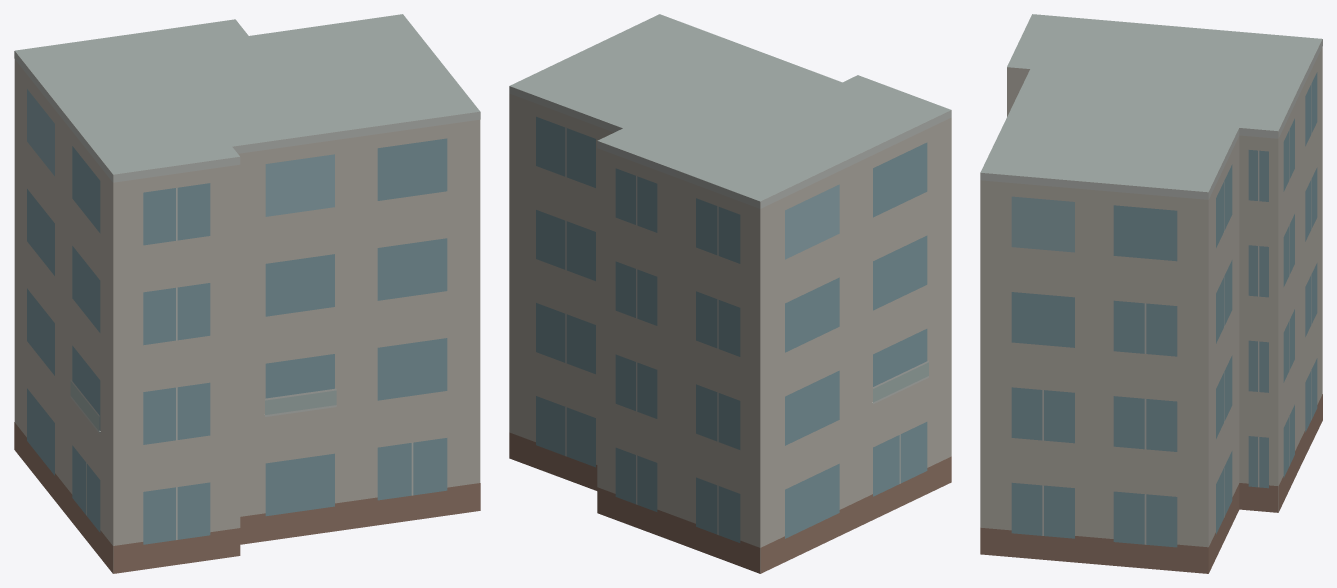
Rendered from residential-8696be92-3b79-4433-add8-eb87050bedae.glb.
3 views of the same model, side by side, from view 1: azimuth 30°, elevation 25°; view 2: azimuth 150°, elevation 25°; view 3: azimuth 270°, elevation 25° (orthographic). The views are drawn at different scales.
Parts seen in each view (by area): view 1: residential-8696be92-3b79-4433-add8-eb87050bedae.tmp; view 2: residential-8696be92-3b79-4433-add8-eb87050bedae.tmp; view 3: residential-8696be92-3b79-4433-add8-eb87050bedae.tmp.
Boxes of the visible parts, x1=… form: residential-8696be92-3b79-4433-add8-eb87050bedae.tmp: x1=14, y1=14, x2=480, y2=573; residential-8696be92-3b79-4433-add8-eb87050bedae.tmp: x1=509, y1=14, x2=951, y2=573; residential-8696be92-3b79-4433-add8-eb87050bedae.tmp: x1=980, y1=14, x2=1322, y2=573.
Bounding box in the file's own units: 12.23 × 12.2 × 9.93.
